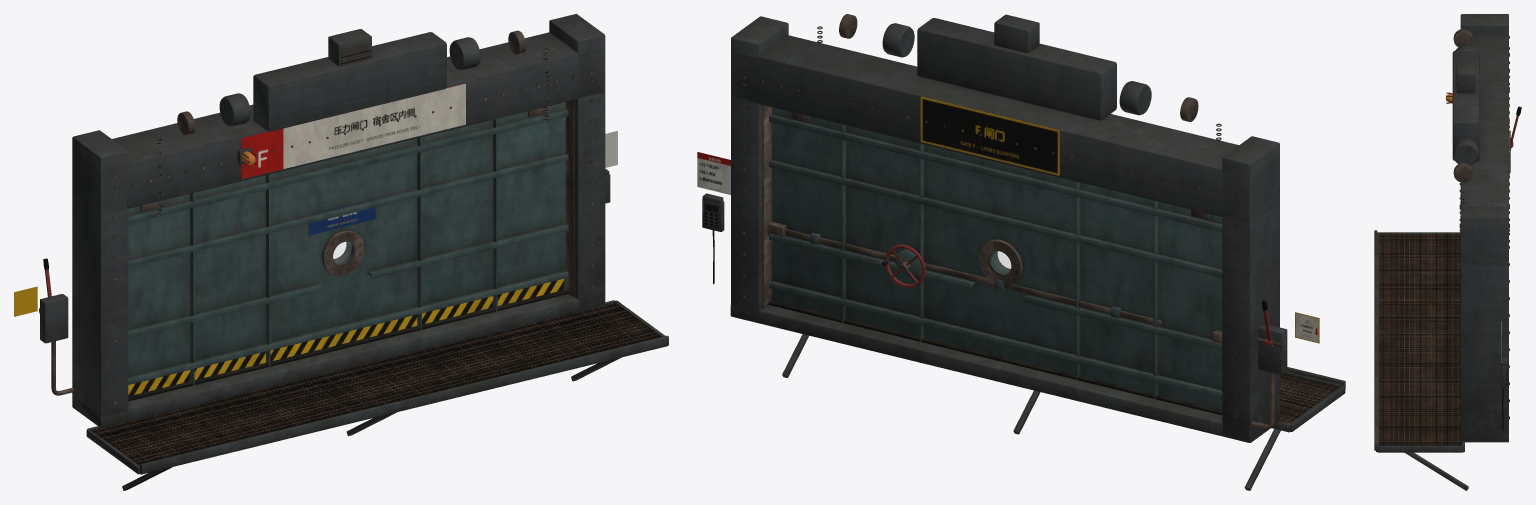
The model's file is gate-f.glb.
The picture shows the model from 3 angles, left to right: view 1: azimuth 30°, elevation 25°; view 2: azimuth 150°, elevation 25°; view 3: azimuth 270°, elevation 25°; orthographic projection. The views are drawn at different scales.
Visible parts, largest first — view 1: gate-frame, gate-leaf, stencils, gate-leaf-stencils; view 2: gate-frame, gate-leaf, stencils, lock-wheel, keypad; view 3: gate-frame, keypad.
Part boxes in pixels (left/top/right/bottom): gate-frame: left=39, top=14, right=668, bottom=490; gate-leaf: left=128, top=102, right=568, bottom=385; stencils: left=14, top=83, right=617, bottom=316; gate-leaf-stencils: left=128, top=199, right=564, bottom=396; gate-frame: left=730, top=14, right=1345, bottom=490; gate-leaf: left=767, top=107, right=1222, bottom=409; stencils: left=697, top=96, right=1319, bottom=343; lock-wheel: left=882, top=244, right=925, bottom=287; keypad: left=702, top=193, right=724, bottom=284; gate-frame: left=1374, top=14, right=1511, bottom=490; keypad: left=1501, top=356, right=1507, bottom=430.
Bounding box in the file's own units: 10.76 × 6.8 × 2.74.
3 materials, 3 textured.
